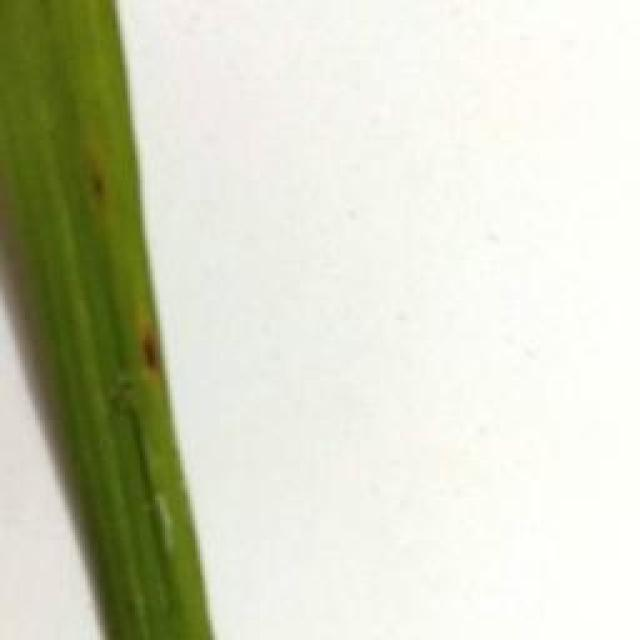Brown_Spot: (129, 310, 179, 397), (76, 150, 114, 212)
